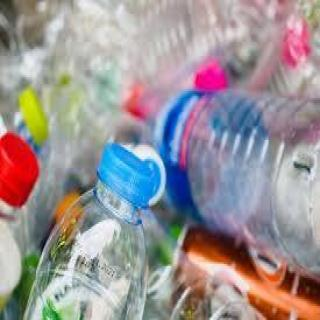Plastic-bottle: (153, 82, 320, 285), (26, 139, 160, 320)
